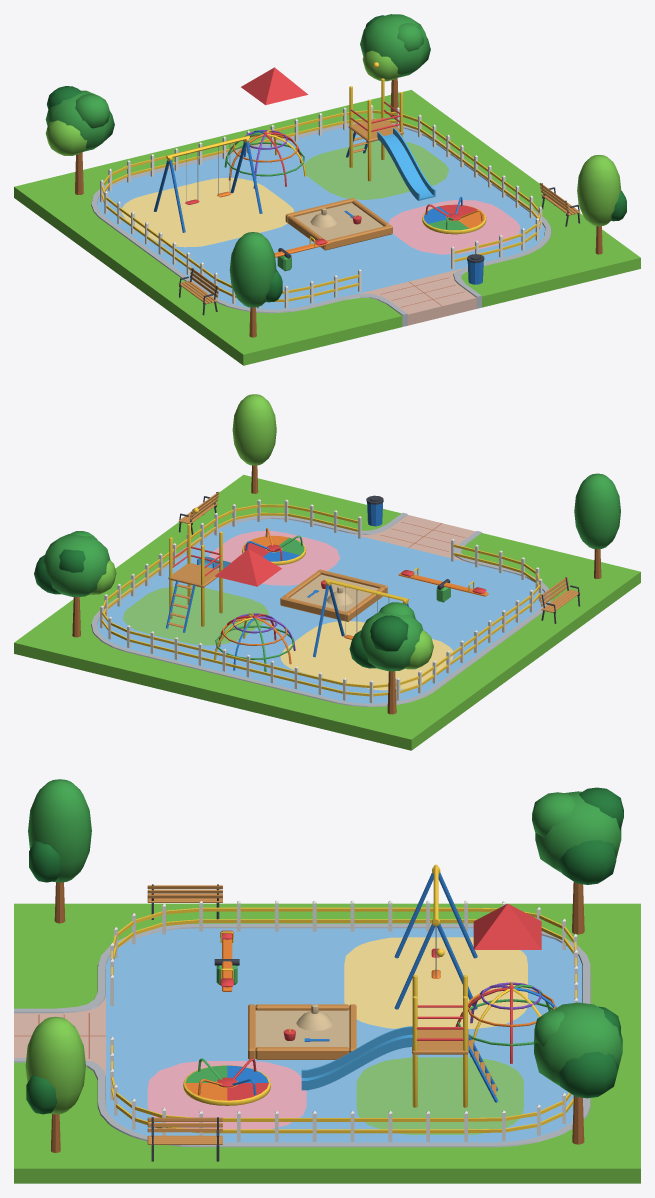
The model's file is playground.glb.
3 views of the same model, one above another, from view 1: azimuth 30°, elevation 25°; view 2: azimuth 150°, elevation 25°; view 3: azimuth 270°, elevation 25° (orthographic). The views are drawn at different scales.
Parts seen in each view (by area): view 1: playground, gira_gira; view 2: playground, gira_gira, gangorra; view 3: playground, gira_gira, gangorra.
Boxes of the visible parts, x1=… form: playground: x1=14, y1=14, x2=640, y2=365; gira_gira: x1=422, y1=196, x2=486, y2=234; playground: x1=14, y1=394, x2=640, y2=750; gira_gira: x1=242, y1=528, x2=306, y2=565; gangorra: x1=398, y1=567, x2=488, y2=596; playground: x1=14, y1=779, x2=640, y2=1183; gira_gira: x1=183, y1=1058, x2=270, y2=1105; gangorra: x1=220, y1=930, x2=233, y2=991.
Size of the model in its own units: 15 by 4.28 by 15.
1 material, 1 textured.
